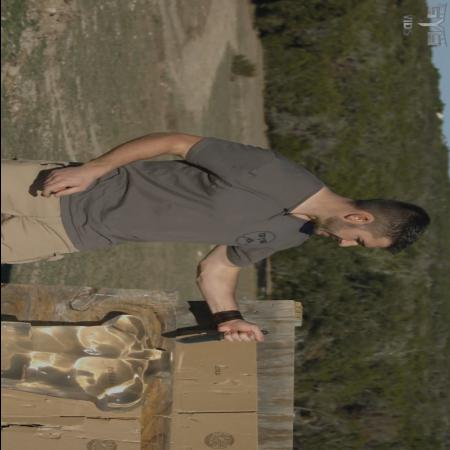long weapon: (170, 324, 268, 348)
